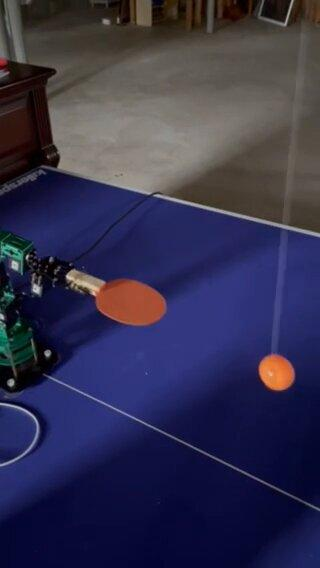oball: (257, 353, 294, 389)
